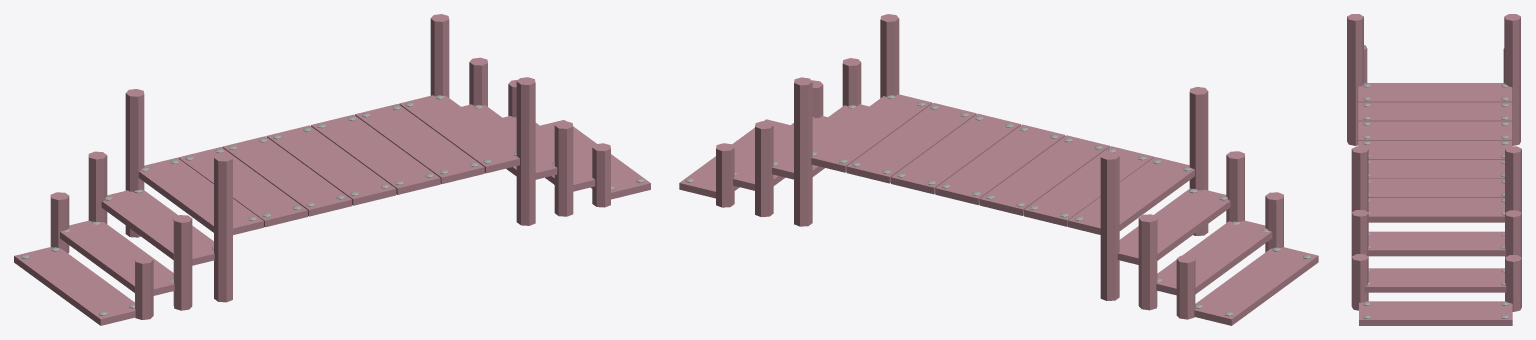
The model's file is bruug.fbx.
3 renders of one model, left to right at view 1: azimuth 30°, elevation 25°; view 2: azimuth 150°, elevation 25°; view 3: azimuth 270°, elevation 25°, orthographic. The views are drawn at different scales.
Visible parts, largest first — view 1: pCube15, pCube10, pCube9, pCube11, pCube8, pCube12, pCube5, pCube14, pCube13, pCube7, pCylinder5, pCylinder4 (+12 smaller); view 2: pCube15, pCube8, pCube10, pCube9, pCube11, pCube12, pCube5, pCube14, pCube13, pCube7, pCylinder3, pCylinder6 (+12 smaller); view 3: pCube16, pCube18, pCube17, pCube12, pCube8, pCube7, pCube5, pCube9, pCube10, pCube11, pCylinder4, pCylinder3 (+7 smaller).
Part boxes in pixels (bbox=[...]): pCube15: bbox=[14, 247, 135, 325]; pCube10: bbox=[311, 114, 440, 194]; pCube9: bbox=[266, 125, 396, 205]; pCube11: bbox=[355, 104, 484, 183]; pCube8: bbox=[222, 136, 351, 216]; pCube12: bbox=[399, 95, 519, 173]; pCube5: bbox=[138, 157, 263, 234]; pCube14: bbox=[60, 220, 174, 295]; pCube13: bbox=[101, 190, 214, 265]; pCube7: bbox=[178, 147, 307, 227]; pCylinder5: bbox=[516, 77, 535, 225]; pCylinder4: bbox=[214, 153, 232, 302]; pCube15: bbox=[1194, 247, 1318, 325]; pCube8: bbox=[979, 135, 1109, 215]; pCube10: bbox=[891, 113, 1020, 194]; pCube9: bbox=[935, 124, 1065, 205]; pCube11: bbox=[846, 103, 976, 183]; pCube12: bbox=[811, 94, 932, 172]; pCube5: bbox=[1068, 157, 1194, 234]; pCube14: bbox=[1156, 220, 1272, 295]; pCube13: bbox=[1117, 188, 1230, 264]; pCube7: bbox=[1024, 146, 1154, 226]; pCylinder3: bbox=[1100, 152, 1119, 300]; pCylinder6: bbox=[794, 77, 812, 226]; pCube16: bbox=[1359, 301, 1512, 325]; pCube18: bbox=[1367, 231, 1505, 256]; pCube17: bbox=[1364, 268, 1506, 292]; pCube12: bbox=[1368, 198, 1504, 222]; pCube8: bbox=[1358, 121, 1512, 140]; pCube7: bbox=[1358, 102, 1512, 121]; pCube5: bbox=[1358, 83, 1512, 102]; pCube9: bbox=[1358, 140, 1512, 159]; pCube10: bbox=[1368, 159, 1504, 178]; pCube11: bbox=[1368, 178, 1504, 197]; pCylinder4: bbox=[1347, 14, 1363, 145]; pCylinder3: bbox=[1504, 14, 1520, 145].
Size of the model in its own units: 26.17 by 6.4 by 8.1.
